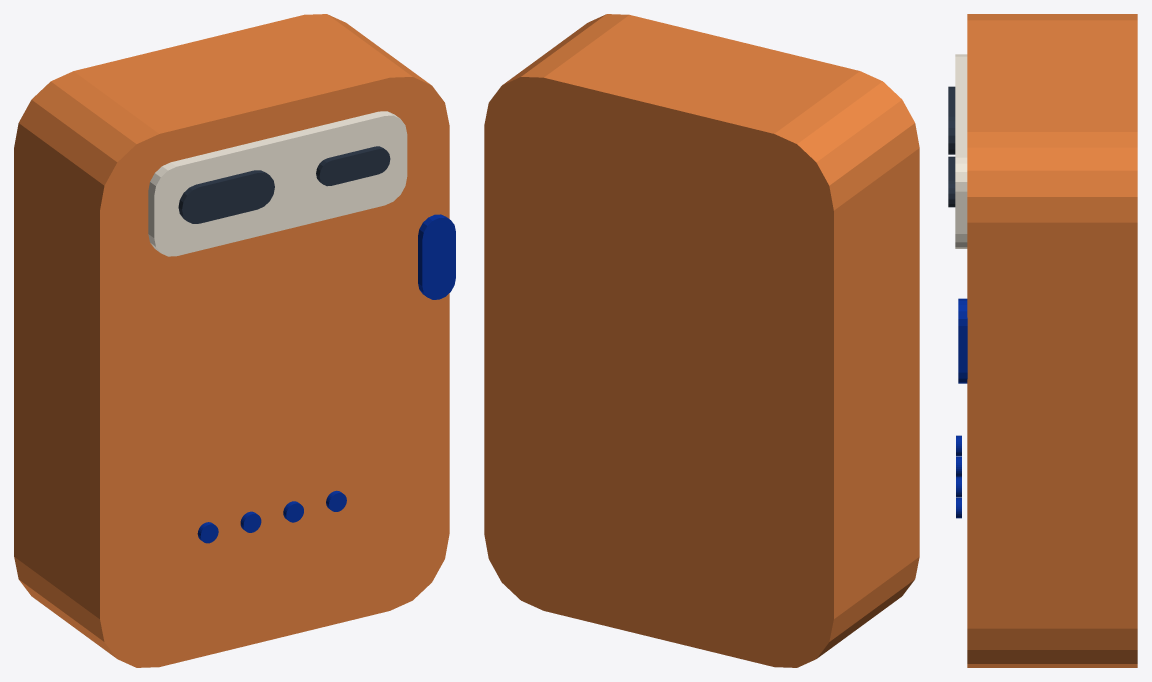
The model's file is powerbank.glb.
The picture shows the model from 3 angles, left to right: view 1: azimuth 30°, elevation 25°; view 2: azimuth 150°, elevation 25°; view 3: azimuth 270°, elevation 25°; orthographic projection.
Parts seen in each view (by area): view 1: body, port panel, port usb a, power key, port usb c; view 2: body; view 3: body, port panel, power key, port usb a, port usb c.
Boxes of the visible parts, x1=… form: body: x1=14, y1=14, x2=449, y2=667; port panel: x1=148, y1=111, x2=407, y2=256; port usb a: x1=178, y1=170, x2=274, y2=223; power key: x1=418, y1=214, x2=455, y2=299; port usb c: x1=316, y1=146, x2=390, y2=186; body: x1=484, y1=14, x2=919, y2=667; body: x1=967, y1=14, x2=1137, y2=667; port panel: x1=955, y1=54, x2=967, y2=248; power key: x1=958, y1=298, x2=967, y2=383; port usb a: x1=948, y1=86, x2=955, y2=154; port usb c: x1=948, y1=156, x2=955, y2=207.
Size of the model in its own units: 0.945 by 1.37 by 0.4445.
